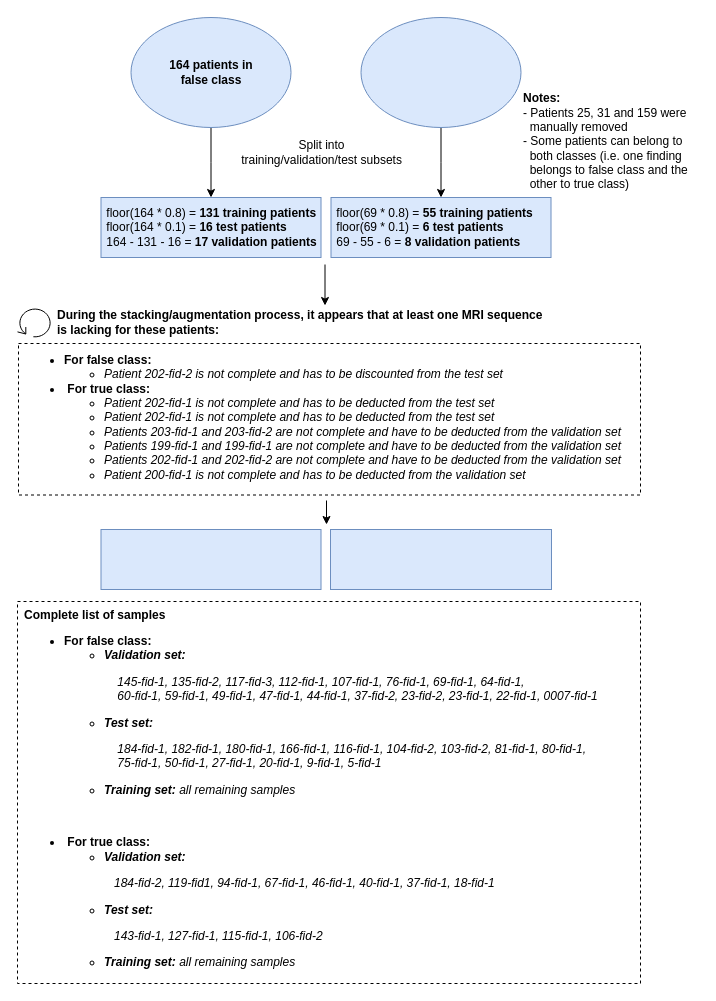
Some shapes in this 716 by 1001 pixel diagram are drawn without their labels. The shapes that lost their labels are listed below. From the top down, each one's box as (x1, y1, x2, y2) in pixels, then its label:
(360, 16, 521, 128): 69 patients in true class
(100, 528, 321, 590): 131 training patients 15 test patients 17 validation patients
(330, 528, 552, 590): 55 training patients 6 test patients 8 validation patients
